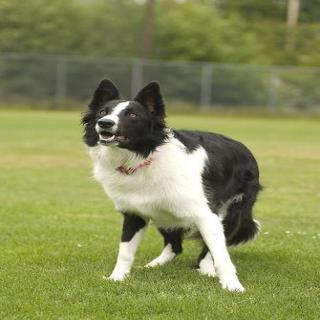dog: (66, 81, 184, 153)
nose: (97, 117, 115, 130)
